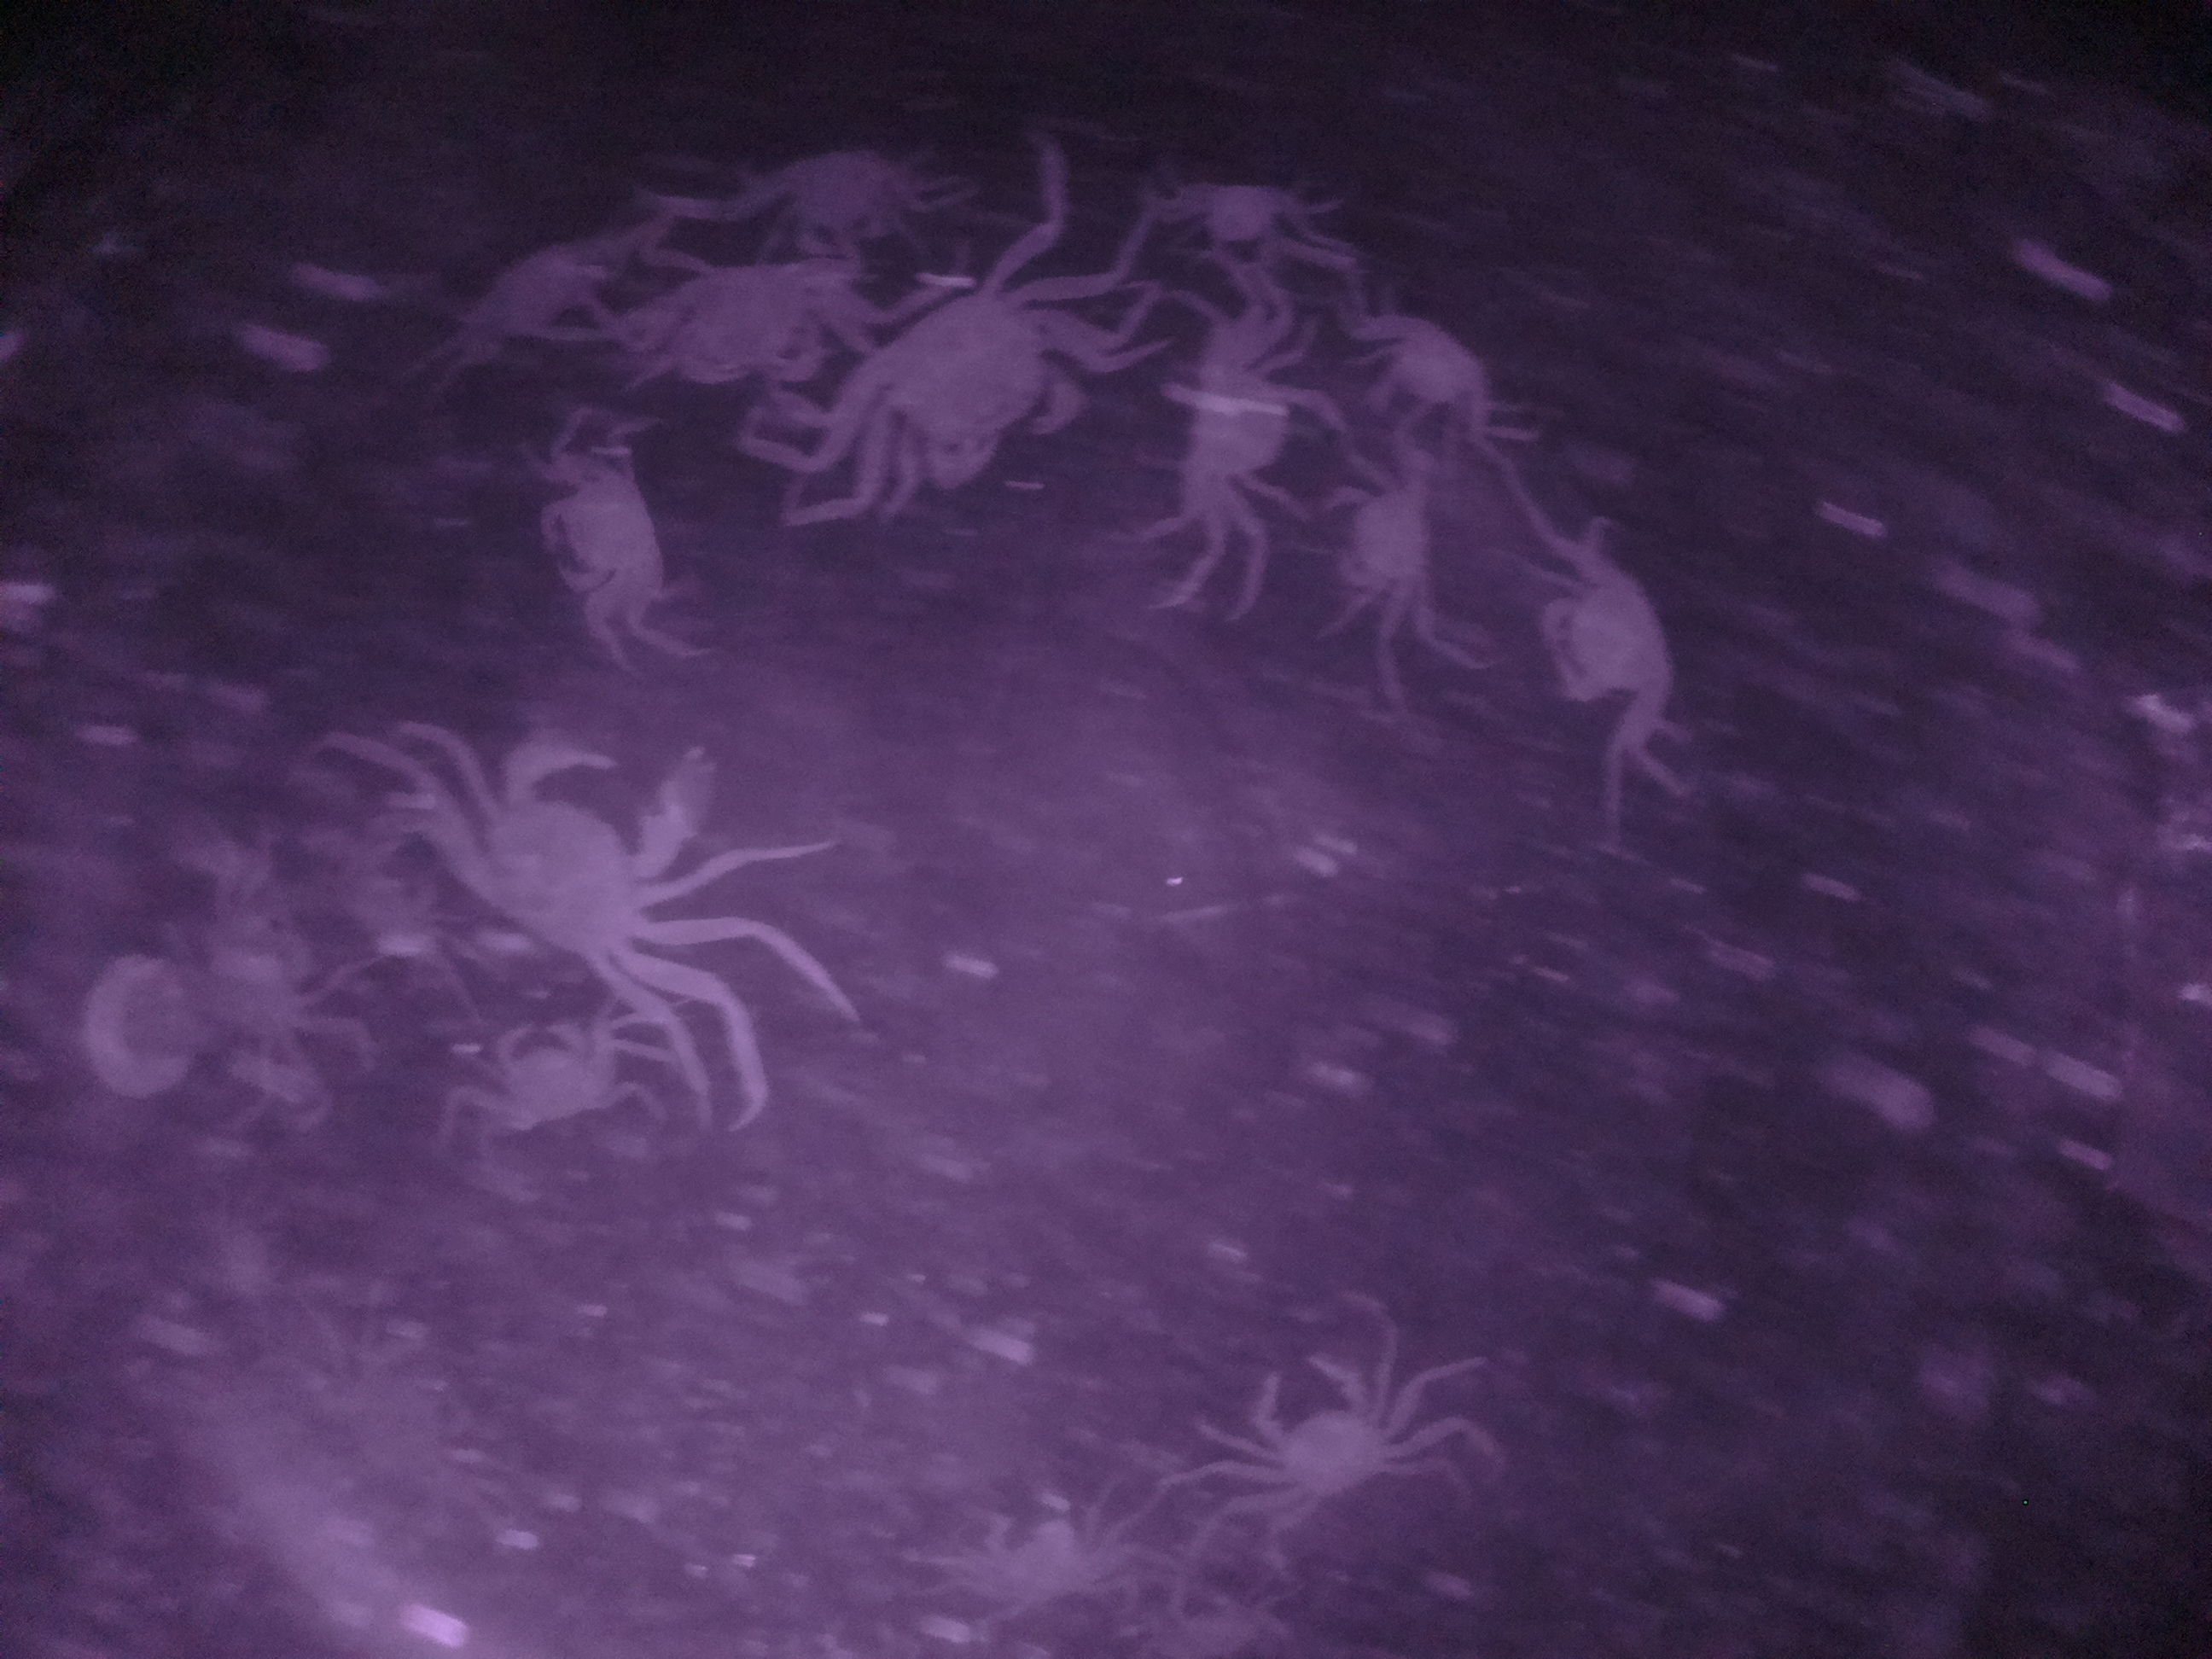Crab: (1233, 1338, 1420, 1535)
